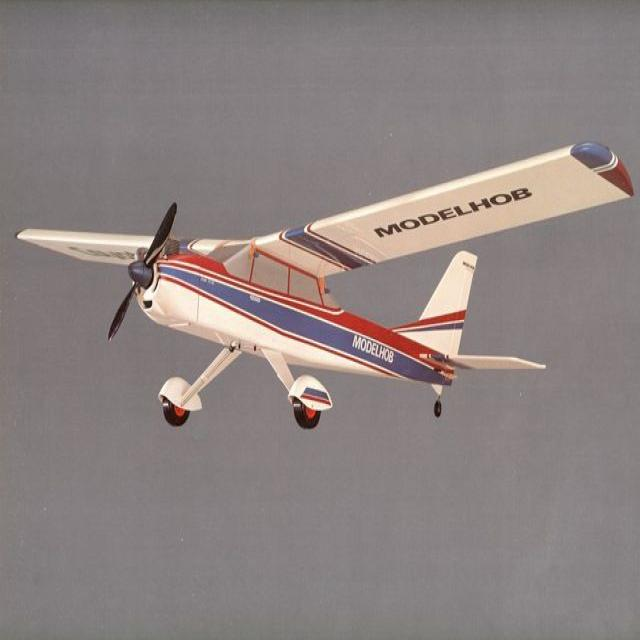iha: (13, 139, 636, 429)
